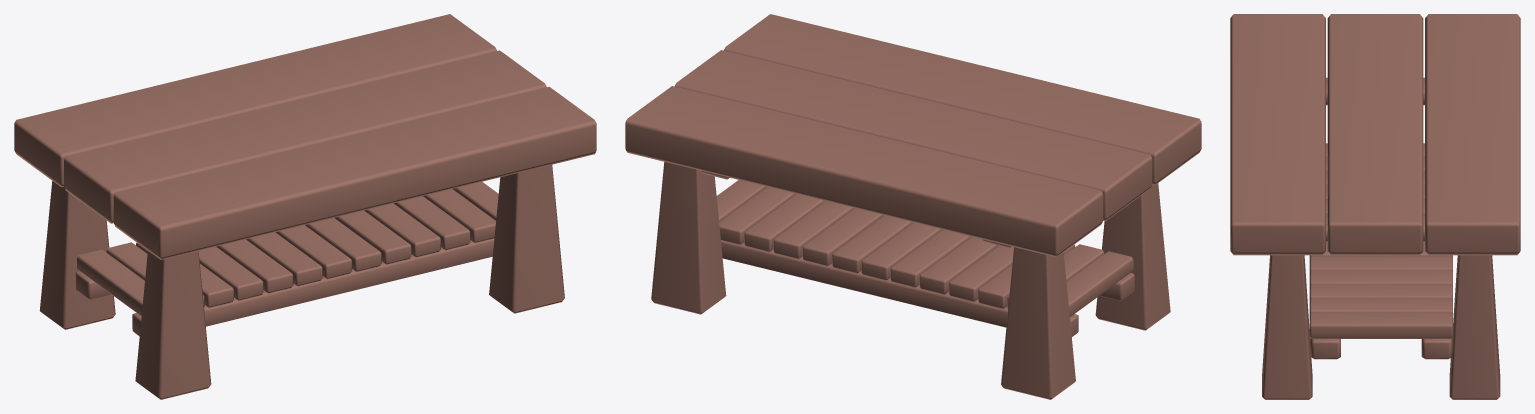
Rendered from Farm_10_Table_1.glb.
The picture shows the model from 3 angles, left to right: view 1: azimuth 30°, elevation 25°; view 2: azimuth 150°, elevation 25°; view 3: azimuth 270°, elevation 25°; orthographic projection.
Parts seen in each view (by area): view 1: Farm_10_Table_1; view 2: Farm_10_Table_1; view 3: Farm_10_Table_1.
Boxes of the visible parts, x1,y1,x2,y2 form: Farm_10_Table_1: [14, 14, 596, 399]; Farm_10_Table_1: [625, 14, 1201, 399]; Farm_10_Table_1: [1230, 14, 1520, 399].
Bounding box in the file's own units: 2.01 × 0.8332 × 1.18.
1 material, 1 textured.
